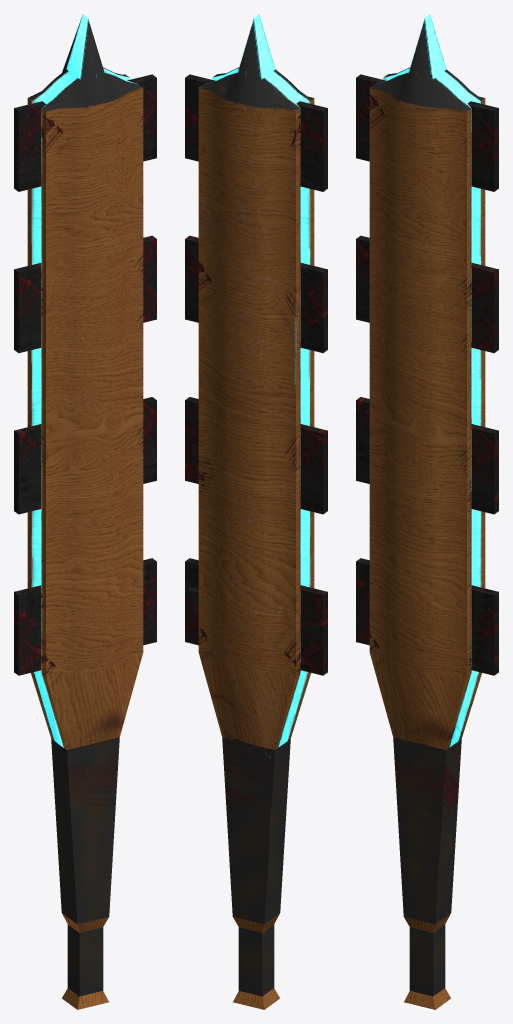
The model's file is Macuahuitl.glb.
The picture shows the model from 3 angles, left to right: view 1: azimuth 30°, elevation 25°; view 2: azimuth 150°, elevation 25°; view 3: azimuth 330°, elevation 25°; orthographic projection.
Parts seen in each view (by area): view 1: Macuahuitl:RoadKillOut; view 2: Macuahuitl:RoadKillOut; view 3: Macuahuitl:RoadKillOut.
Boxes of the visible parts, x1,y1,x2,y2 form: Macuahuitl:RoadKillOut: (14, 14, 156, 1009); Macuahuitl:RoadKillOut: (185, 14, 327, 1009); Macuahuitl:RoadKillOut: (356, 14, 498, 1009).
Bounding box in the file's own units: 0.0142 × 0.0964 × 0.00552.
1 material, 1 textured.
